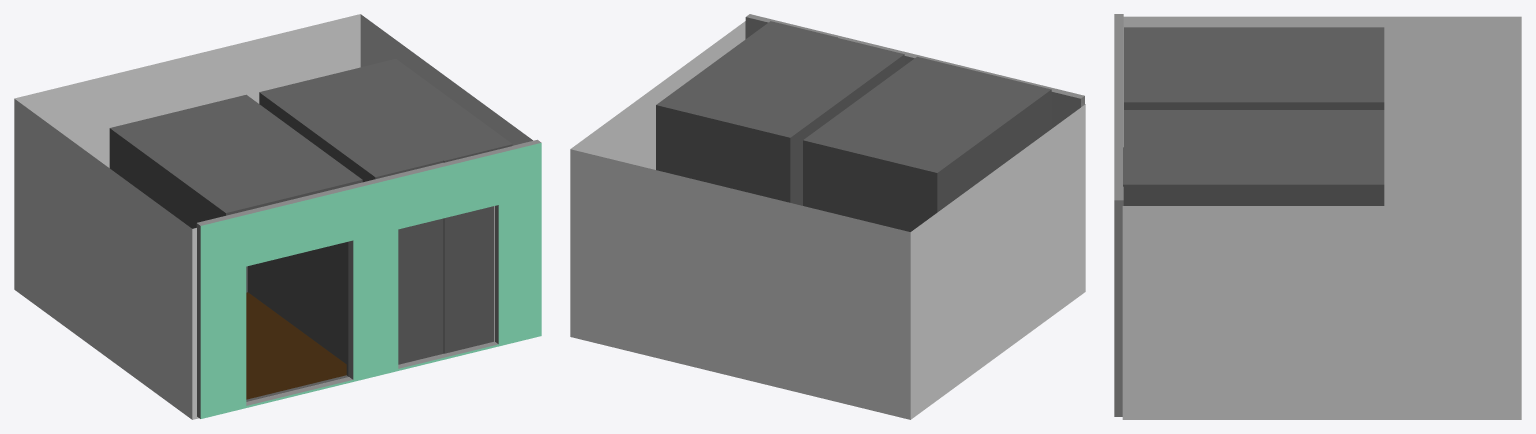
Rendered from ElevatorRoom.FBX.
3 views of the same model, side by side, from view 1: azimuth 30°, elevation 25°; view 2: azimuth 150°, elevation 25°; view 3: azimuth 270°, elevation 25° (orthographic). The views are drawn at different scales.
Visible parts, largest first — view 1: Box001, Rooms14, Elevator01, Elevator02; view 2: Box001, Elevator01, Elevator02, Rooms14; view 3: Box001, Elevator02, Elevator01, Rooms14.
Boxes of the visible parts, <box> form: Box001: <box>14,14,532,419</box>; Rooms14: <box>196,139,541,418</box>; Elevator01: <box>109,94,362,401</box>; Elevator02: <box>259,59,512,364</box>; Box001: <box>570,21,1085,419</box>; Elevator01: <box>803,56,1051,231</box>; Elevator02: <box>656,21,904,205</box>; Rooms14: <box>745,14,1084,128</box>; Box001: <box>1122,16,1521,419</box>; Elevator02: <box>1123,110,1384,205</box>; Elevator01: <box>1124,27,1384,109</box>; Rooms14: <box>1114,14,1123,416</box>.
Size of the model in its own units: 16.3 by 8.91 by 14.83.
